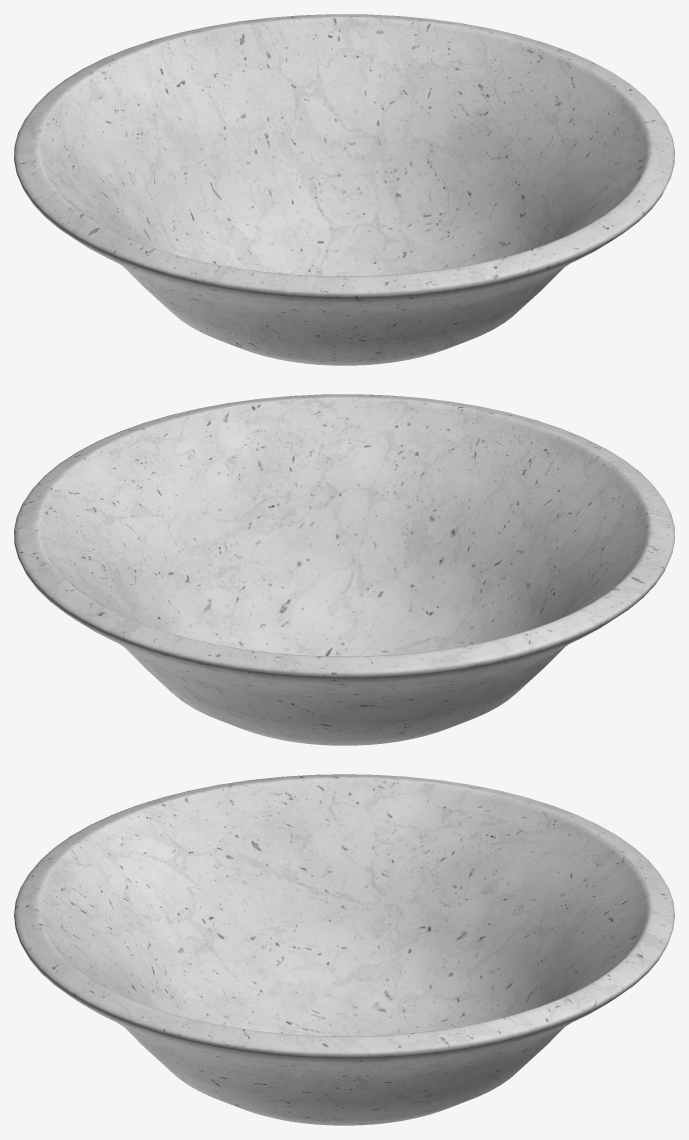
The model's file is Ciotola.fbx.
3 views of the same model, one above another, from view 1: azimuth 30°, elevation 25°; view 2: azimuth 150°, elevation 25°; view 3: azimuth 270°, elevation 25° (orthographic).
Visible parts, largest first — view 1: Ciotola; view 2: Ciotola; view 3: Ciotola.
Boxes of the visible parts, x1,y1,x2,y2 form: Ciotola: (14,14,674,365); Ciotola: (14,394,674,745); Ciotola: (14,774,674,1125).
Size of the model in its own units: 251 by 79.89 by 251.
